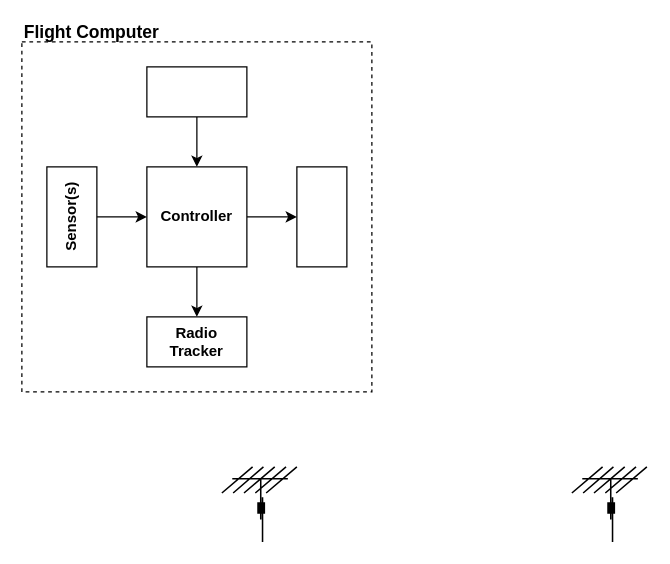
Image size: 670x564. Some labels were removed from this diagram. Here are the shapes that lost their labels. From the top down, the centre of each, then its label:
At [196,91]: "GPS".
At [321,216]: "Data Log".
